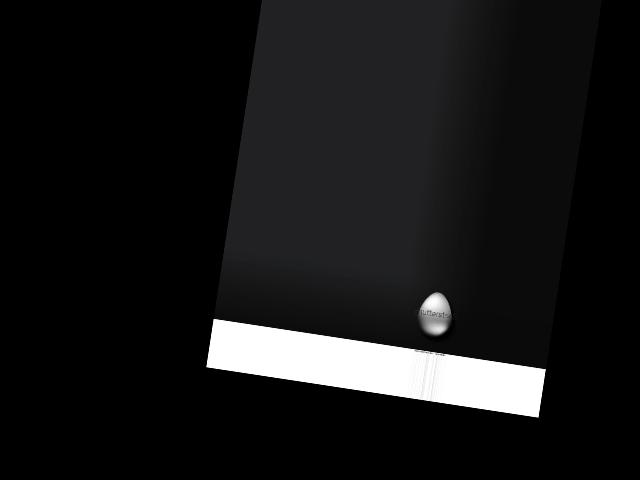egg: (414, 289, 456, 339)
